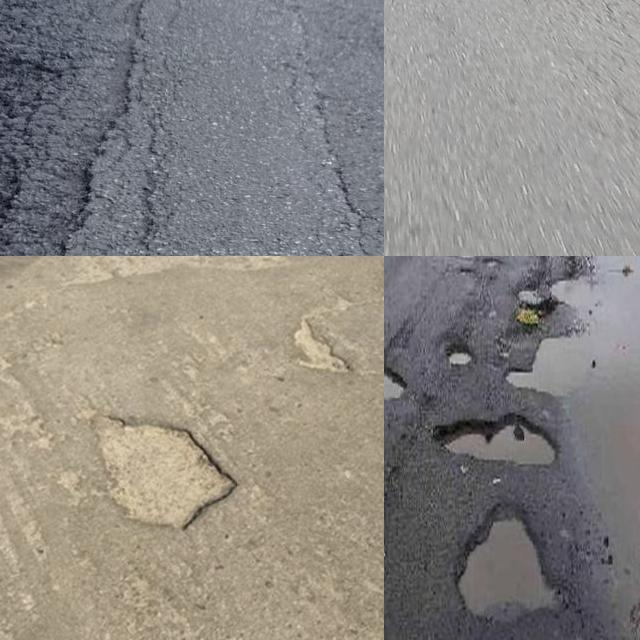Lubang: (89, 410, 240, 525), (452, 504, 561, 618), (432, 420, 561, 468), (384, 368, 406, 400), (444, 338, 475, 360), (431, 256, 478, 269)
Retak Buaya: (0, 0, 78, 251)
